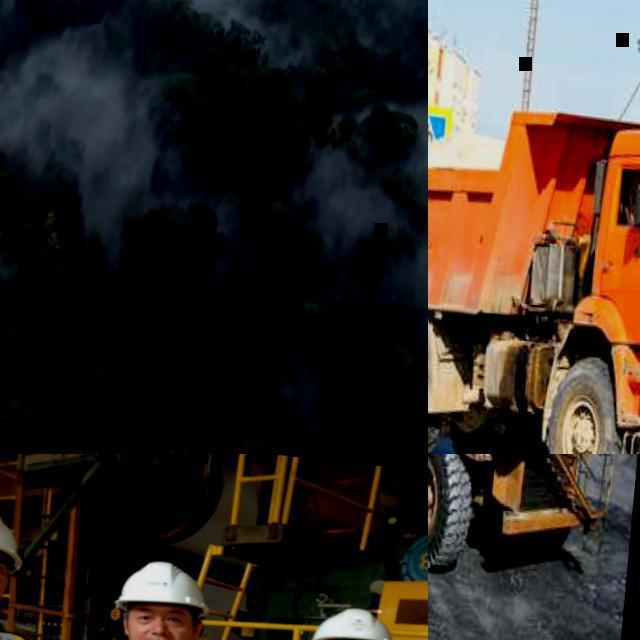helmet: (106, 555, 214, 640), (303, 600, 399, 640), (0, 497, 29, 560)
